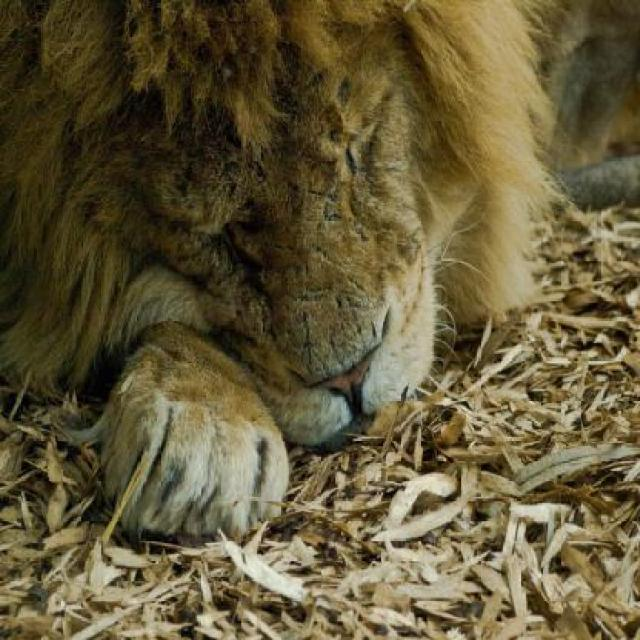Lion: (0, 3, 580, 639)
